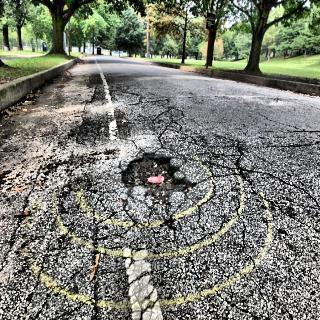alligator-crack: (79, 93, 317, 320)
pothole: (119, 149, 188, 210)
